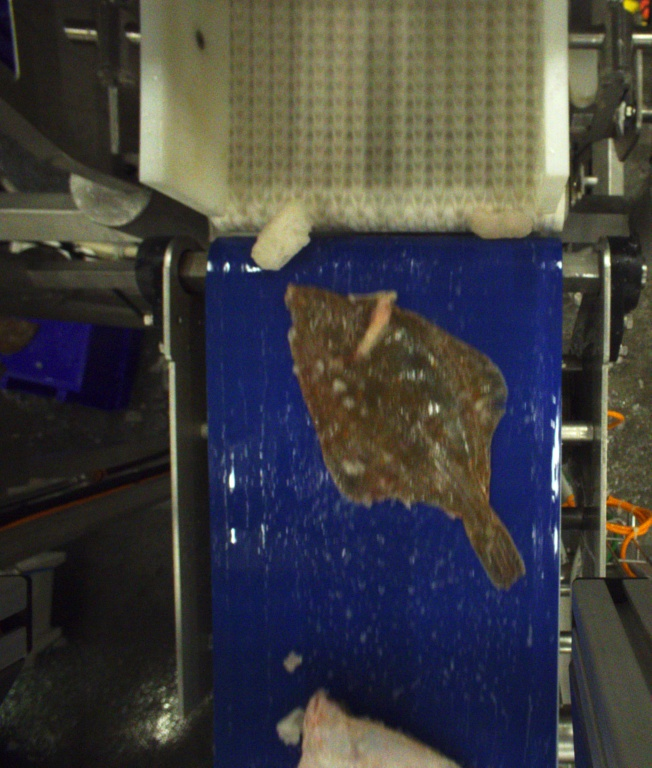PLE: (283, 283, 527, 594)
